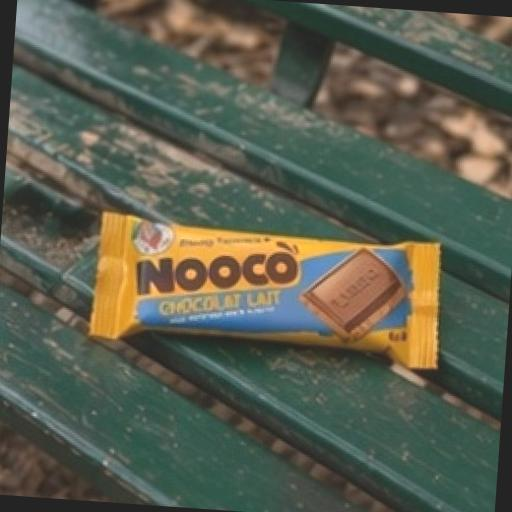biscuit-detection: (70, 168, 474, 421)
